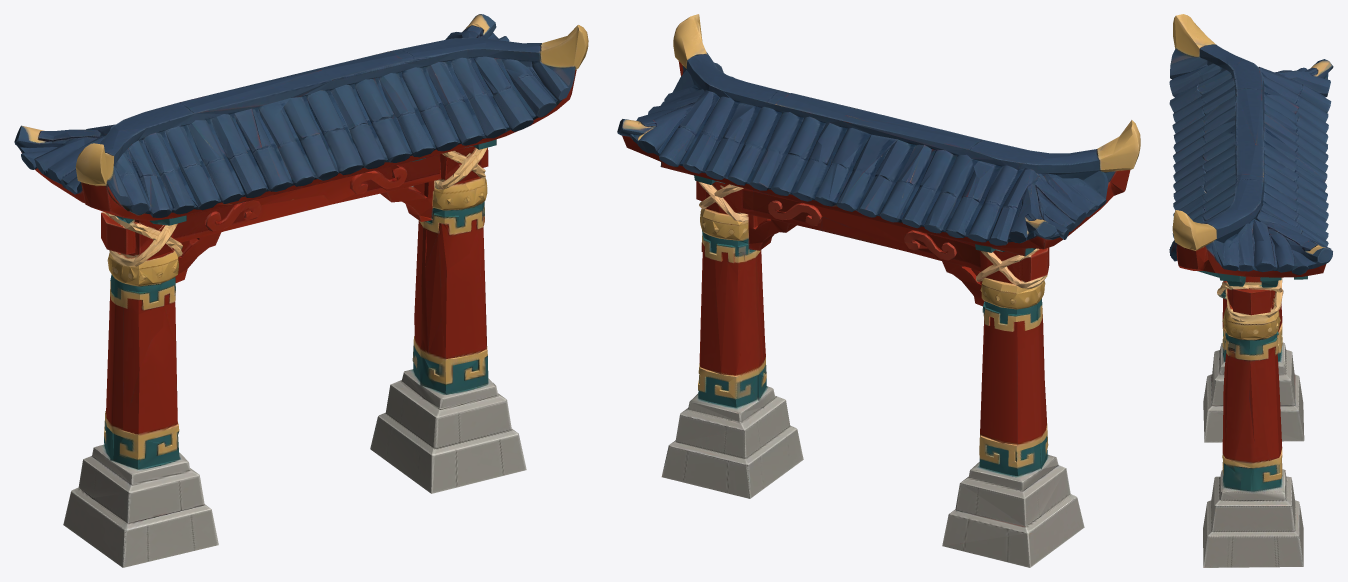
File: gate-frame.glb
The picture shows the model from 3 angles, left to right: view 1: azimuth 30°, elevation 25°; view 2: azimuth 150°, elevation 25°; view 3: azimuth 270°, elevation 25°; orthographic projection. The views are drawn at different scales.
Bounding box in the file's own units: 1.9 × 1.59 × 0.6323.
1 material, 1 textured.
